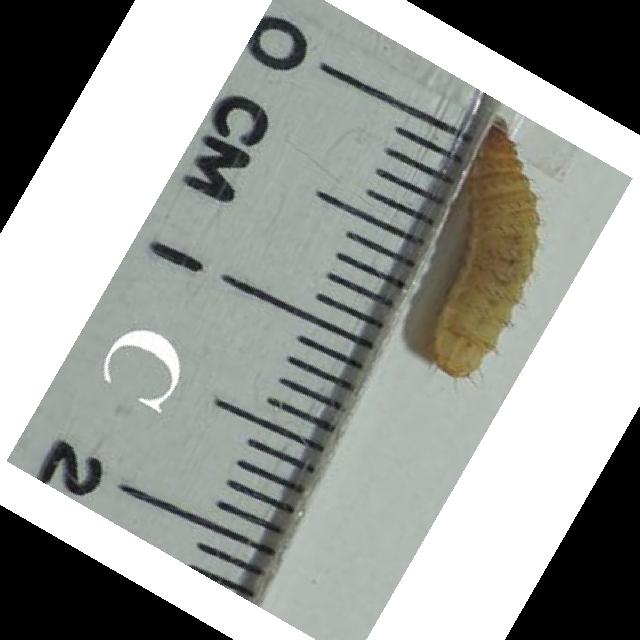Maggot: (428, 118, 551, 379)
